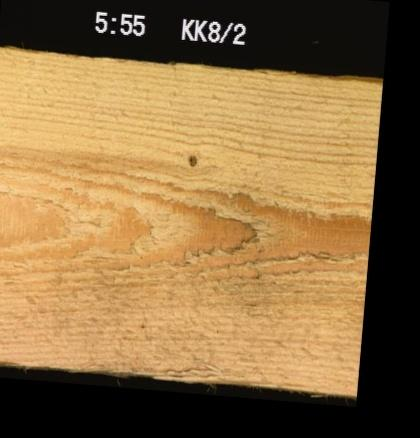dry_knot: (186, 151, 195, 161)
